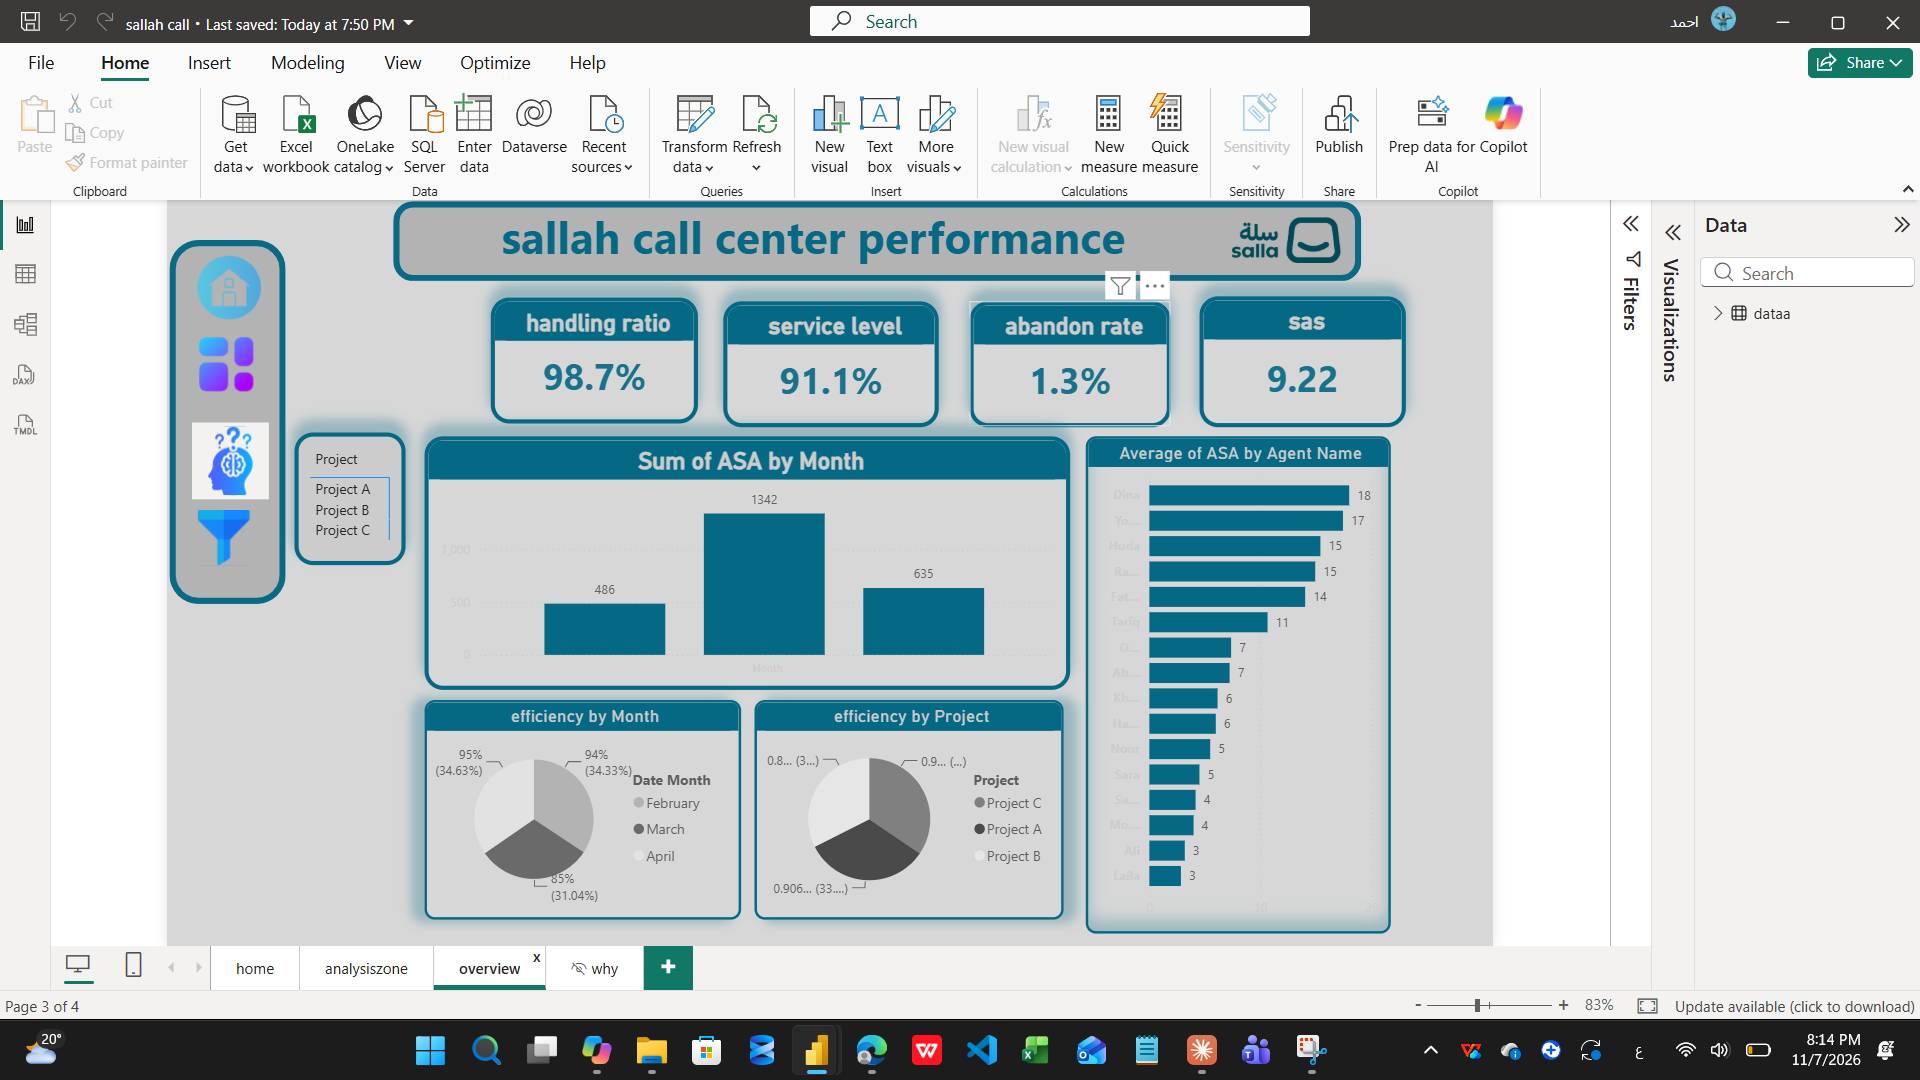

The dashboard page shown, as its layout file describes it:
{"tool":"powerbi","page":{"name":"overview","canvas":[1280,720],"ordinal":2},"visuals":[{"type":"shape","box":[217.9,1.4,934.3,77.1],"z":0},{"type":"shape","box":[2.7,39.2,112.2,351.4],"z":1000},{"type":"actionButton","box":[300,0,647.1,68.6],"z":2000},{"type":"cardVisual","title":"handling ratio","fields":{"Data":["dataa.handling call ratio"]},"box":[312.2,94.6,200,121.6],"z":3000},{"type":"cardVisual","title":"service level","fields":{"Data":["dataa.serves level"]},"box":[536.5,97.3,208.1,121.6],"z":4000},{"type":"cardVisual","title":"abandon rate","fields":{"Data":["dataa.abd ratio"]},"box":[774.3,97.3,194.6,121.6],"z":5000},{"type":"cardVisual","title":"sas","fields":{"Data":["Avg(dataa.ASA)"]},"box":[996.5,92.9,199.1,126.7],"z":6000},{"type":"columnChart","fields":{"Category":["dataa.Date.Variation.Date Hierarchy.Month","dataa.Day Name"],"Y":["Sum(dataa.ASA)"]},"box":[248.6,228.4,623,244.6],"z":7000},{"type":"pieChart","fields":{"Category":["dataa.Date.Variation.Date Hierarchy.Month"],"Y":["dataa.efficiency"]},"box":[248.6,482.4,305.4,212.2],"z":8000},{"type":"pieChart","fields":{"Y":["dataa.efficiency"],"Category":["dataa.Project"]},"box":[567.6,482.4,298.6,212.2],"z":9000},{"type":"barChart","fields":{"Category":["dataa.Agent Name"],"Y":["Avg(dataa.ASA)"]},"box":[886.5,228.4,294.6,479.7],"z":10000},{"type":"image","box":[1027.9,0,105,77.1],"z":11000},{"type":"actionButton","box":[25.8,38.7,69.4,91.9],"z":12000},{"type":"actionButton","box":[24.2,125.8,74.2,66.1],"z":13000},{"type":"actionButton","box":[24.2,291.9,61.3,67.7],"z":14000},{"type":"actionButton","box":[24.2,214.5,74.2,74.2],"z":20000},{"type":"pivotTable","fields":{"Rows":["dataa.Project"]},"box":[123.1,224.4,107.4,127.9],"z":21000}]}

Visuals, with their boxes on the page's 1280x720 design canvas (x1, y1, x2, y2). These are canvas units, not pixel positions in the 1920x1080 screenshot, which may show the page scaled, cropped or inside an application window:
shape: region(218, 1, 1152, 78)
shape: region(3, 39, 115, 391)
actionButton: region(300, 0, 947, 69)
"handling ratio" cardVisual: region(312, 95, 512, 216)
"service level" cardVisual: region(536, 97, 745, 219)
"abandon rate" cardVisual: region(774, 97, 969, 219)
"sas" cardVisual: region(996, 93, 1196, 220)
columnChart - dataa.Date.Variation.Date Hierarchy.Month x dataa.Day Name: region(249, 228, 872, 473)
pieChart - dataa.Date.Variation.Date Hierarchy.Month x dataa.efficiency: region(249, 482, 554, 695)
pieChart - dataa.efficiency x dataa.Project: region(568, 482, 866, 695)
barChart - dataa.Agent Name x Avg(dataa.ASA): region(886, 228, 1181, 708)
image: region(1028, 0, 1133, 77)
actionButton: region(26, 39, 95, 131)
actionButton: region(24, 126, 98, 192)
actionButton: region(24, 292, 86, 360)
actionButton: region(24, 214, 98, 289)
pivotTable - dataa.Project: region(123, 224, 230, 352)
